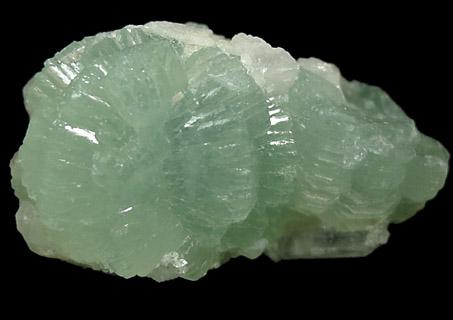prehnite: (9, 21, 452, 284)
